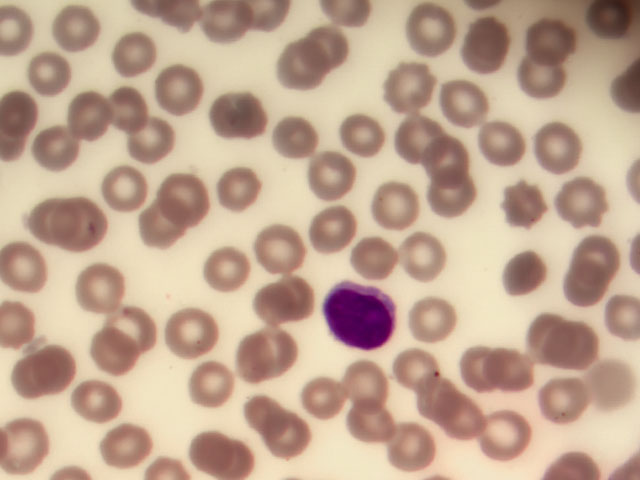RBC: (1, 419, 48, 480), (47, 1, 103, 52), (15, 41, 71, 92), (30, 124, 86, 175), (59, 91, 115, 142), (93, 83, 149, 134), (108, 27, 164, 78), (151, 60, 207, 111), (127, 115, 183, 166), (104, 160, 160, 211), (62, 197, 118, 248), (26, 196, 82, 247), (2, 241, 58, 292), (69, 259, 125, 310), (81, 328, 137, 379), (19, 346, 75, 397), (69, 371, 125, 422), (114, 302, 170, 353), (165, 308, 221, 359), (195, 247, 251, 298), (131, 207, 187, 258), (156, 177, 212, 228), (209, 162, 265, 213), (211, 94, 267, 145), (262, 111, 318, 162), (306, 151, 362, 202), (330, 110, 386, 161), (306, 196, 362, 247), (252, 219, 308, 270), (249, 280, 305, 331), (238, 329, 294, 380), (187, 357, 243, 408), (98, 423, 154, 474), (179, 425, 235, 476), (213, 429, 269, 480), (228, 393, 284, 444), (269, 415, 325, 466), (295, 381, 351, 432), (332, 354, 388, 405), (341, 397, 397, 448), (381, 417, 437, 468), (388, 342, 444, 393), (409, 374, 465, 425), (433, 392, 489, 443), (469, 407, 525, 458), (448, 344, 504, 395), (479, 342, 535, 393), (403, 298, 459, 349), (403, 237, 459, 288), (349, 236, 405, 287), (372, 179, 428, 230), (417, 175, 473, 226), (424, 133, 480, 184), (396, 117, 452, 168), (385, 63, 441, 114), (273, 44, 329, 95), (294, 24, 350, 75), (398, 4, 454, 55), (459, 19, 515, 70), (518, 9, 574, 60), (520, 54, 576, 105), (478, 120, 534, 171), (442, 82, 498, 133), (533, 123, 589, 174), (552, 183, 608, 234), (499, 178, 555, 229), (503, 257, 559, 308), (555, 265, 611, 316), (568, 234, 624, 285), (543, 321, 599, 372), (518, 308, 574, 359), (540, 375, 596, 426), (577, 360, 633, 411), (200, 1, 253, 42), (601, 290, 640, 343)
WBC: (323, 279, 399, 354)
